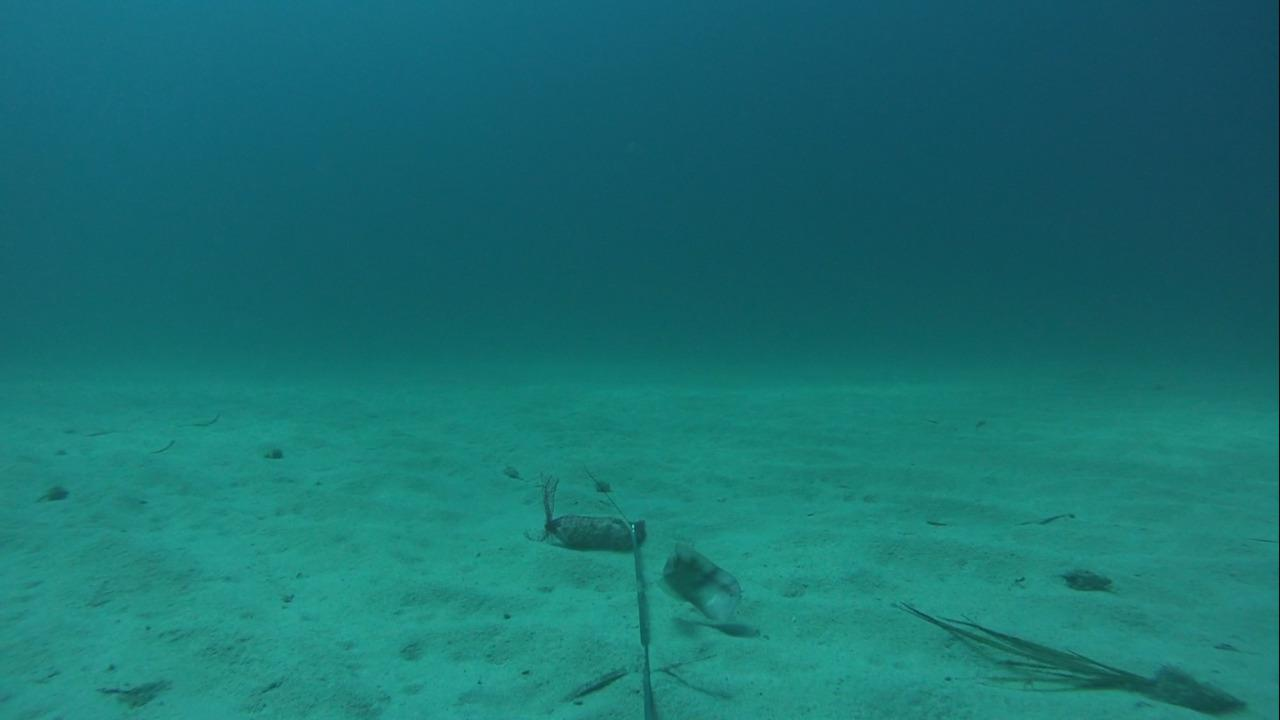raor: (654, 540, 747, 624)
